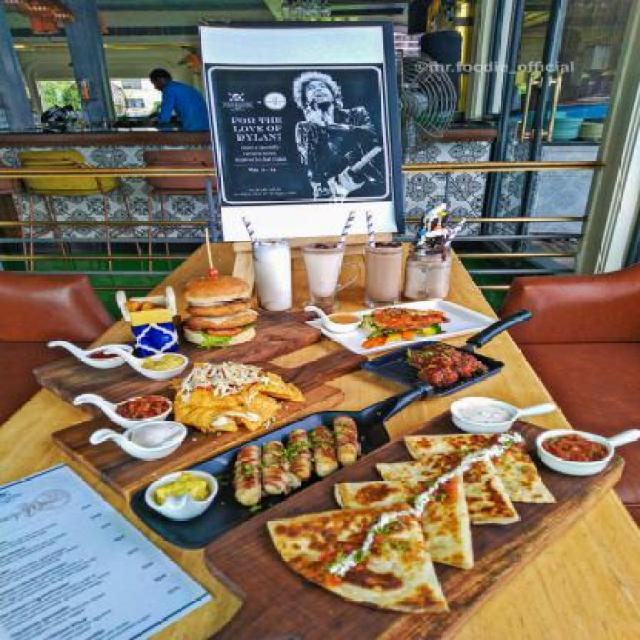chicken quesadilla: (264, 427, 531, 621)
chicken wings: (404, 339, 484, 390)
french fries: (121, 290, 174, 328)
guacamole: (143, 465, 222, 510), (134, 350, 188, 375)
hamburger: (179, 270, 258, 350)
nachos: (164, 364, 307, 431)
